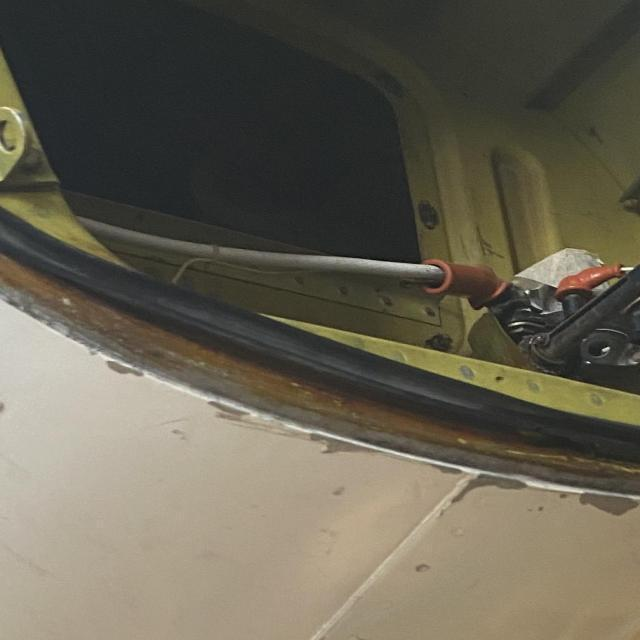Paint-off: (424, 464, 553, 508), (558, 489, 640, 516), (203, 397, 267, 429), (306, 432, 383, 456), (103, 356, 141, 375), (414, 561, 431, 571), (635, 501, 640, 507)
